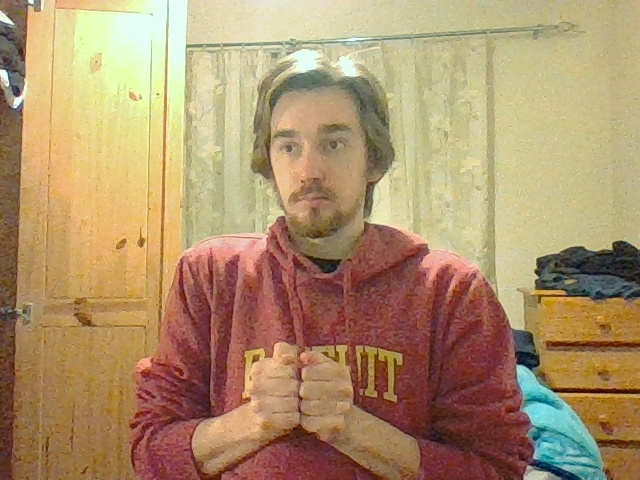brother: (249, 340, 354, 436)
